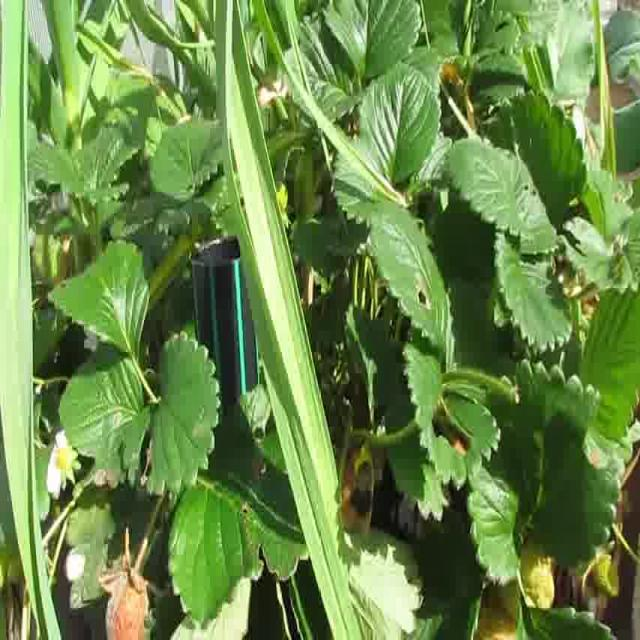Moho gris: (102, 564, 150, 640)
